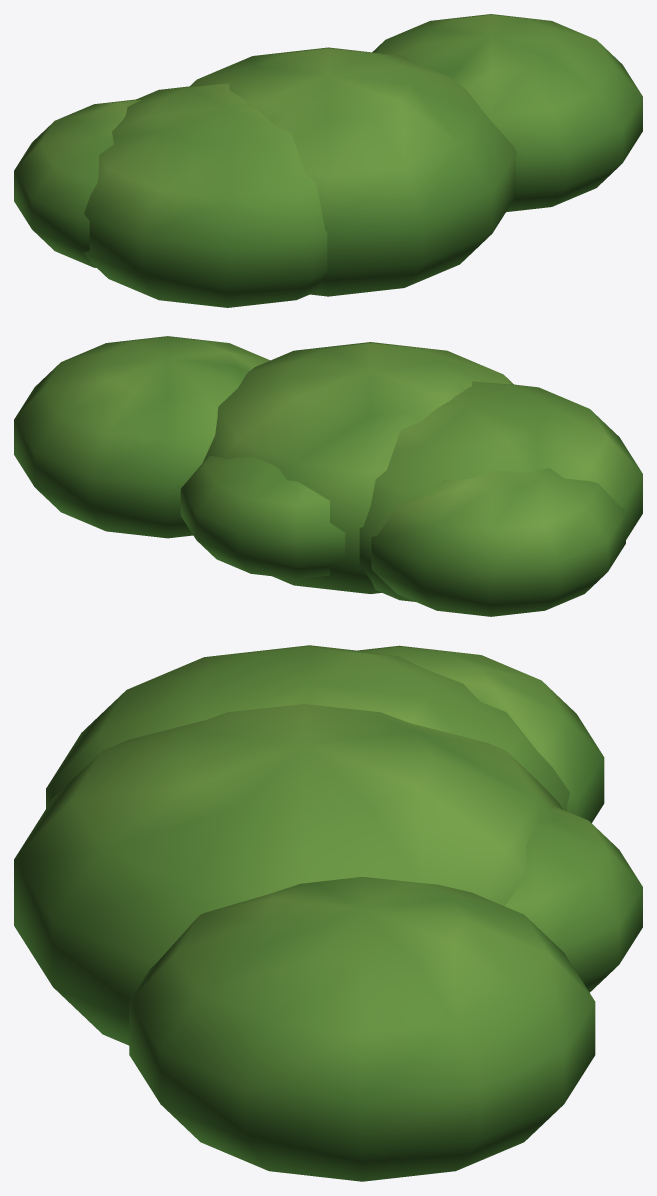
Rendered from Moss.fbx.
The picture shows the model from 3 angles, top to bottom: view 1: azimuth 30°, elevation 25°; view 2: azimuth 150°, elevation 25°; view 3: azimuth 270°, elevation 25°; orthographic projection. The views are drawn at different scales.
Visible parts, largest first — view 1: Moss; view 2: Moss; view 3: Moss.
Part boxes in pixels (x1,y1,x2,y2): Moss: (14,14,642,307); Moss: (14,336,642,616); Moss: (14,645,642,1181).
Size of the model in its own units: 1.44 by 0.4614 by 0.8854.
